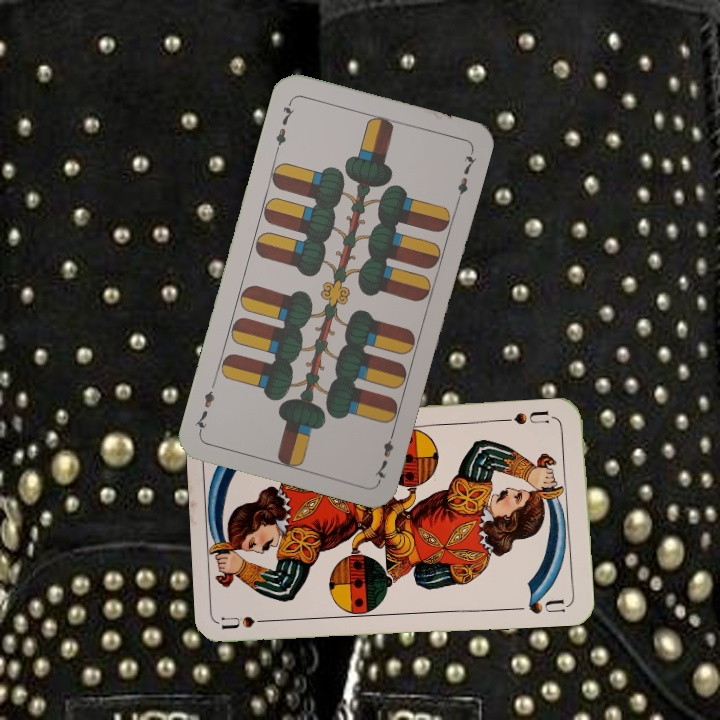E7: (370, 425, 398, 483), (271, 96, 297, 155)
SU: (219, 612, 279, 632), (499, 406, 552, 428)
